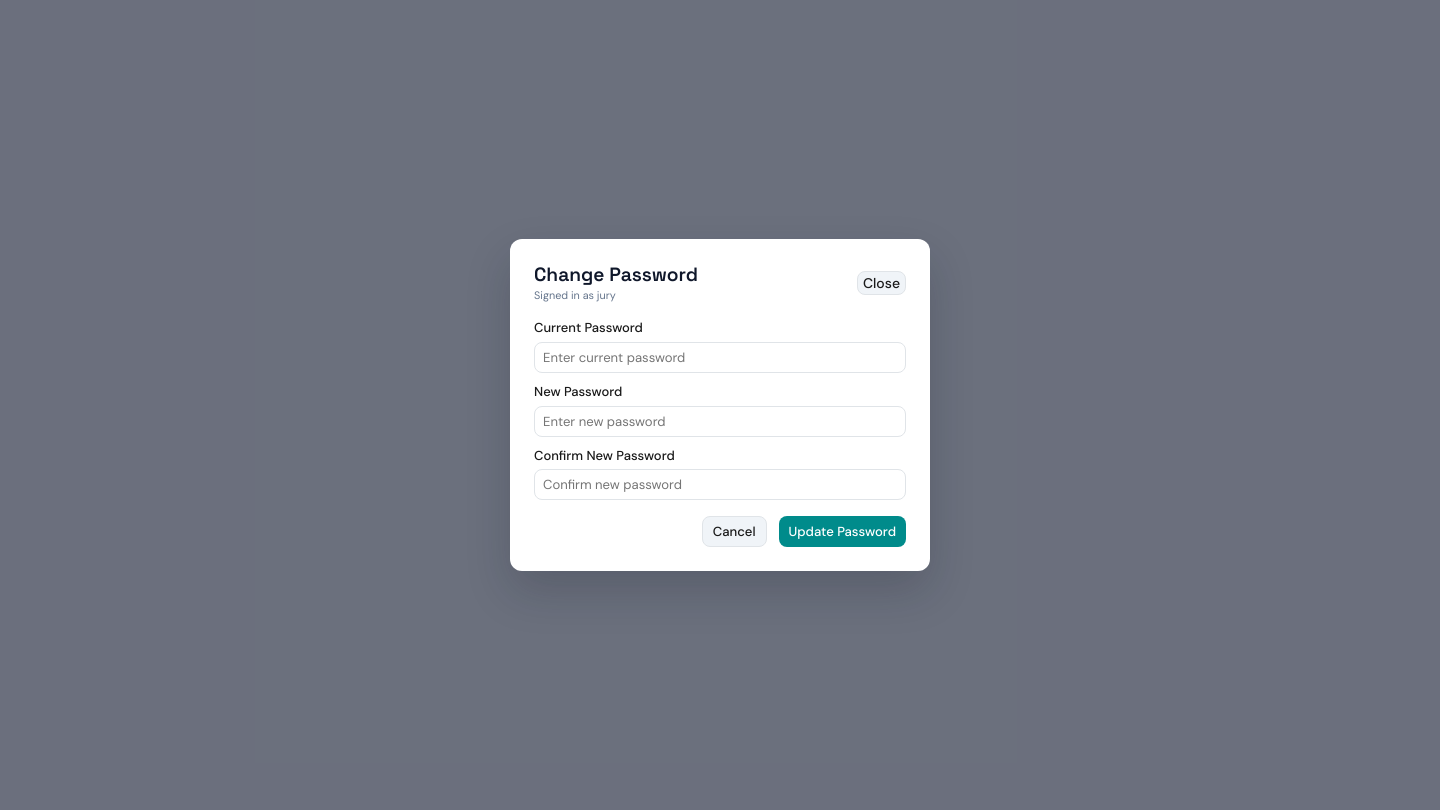
Test: PasswordChangeModal › validates password length and confirmation
This screenshot has width=1440, height=810.
In the password field with placeholder "Enter current password": [720, 358] box [534, 342, 906, 373], type "old"
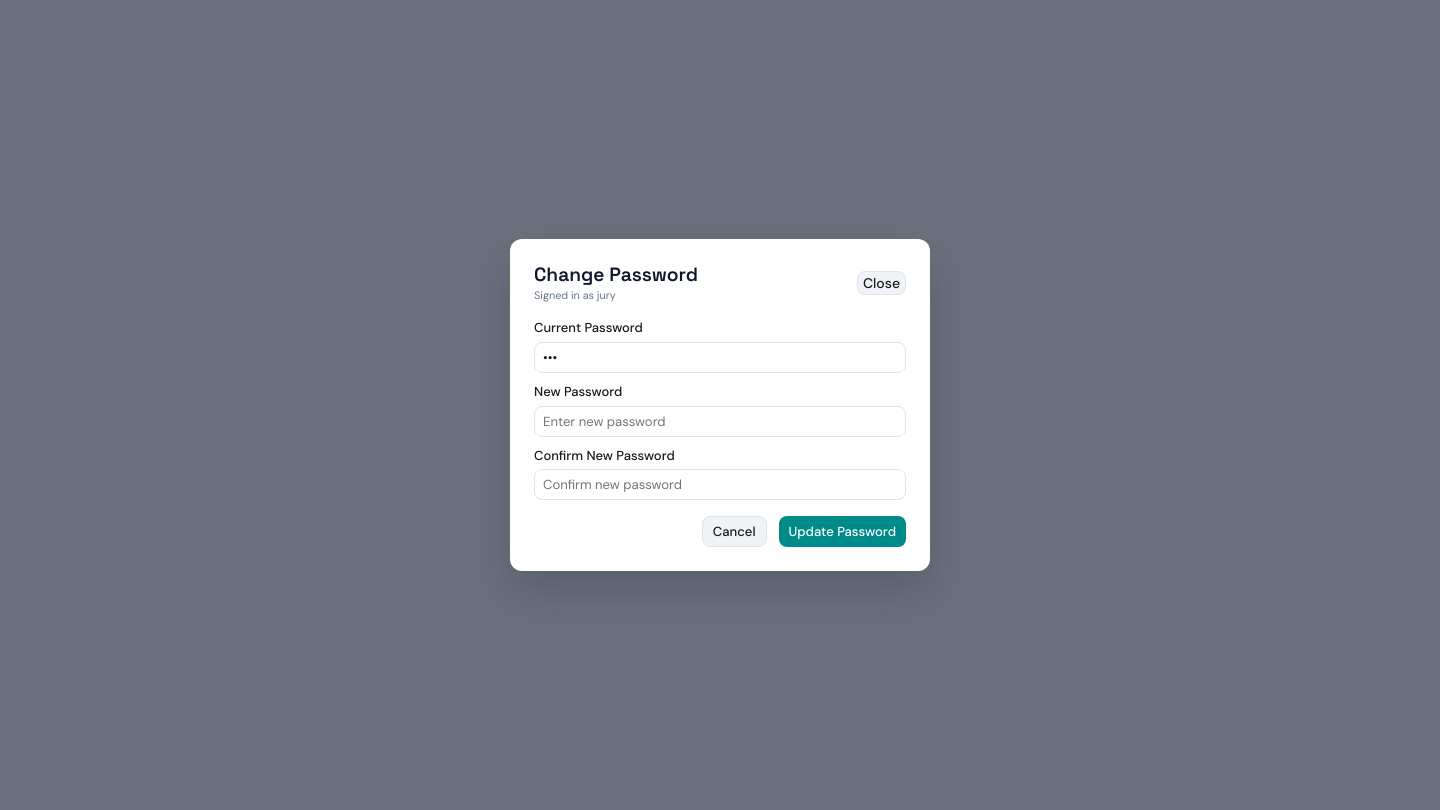
In the password field with placeholder "Enter new password": [720, 421] box [534, 406, 906, 437], type "short"
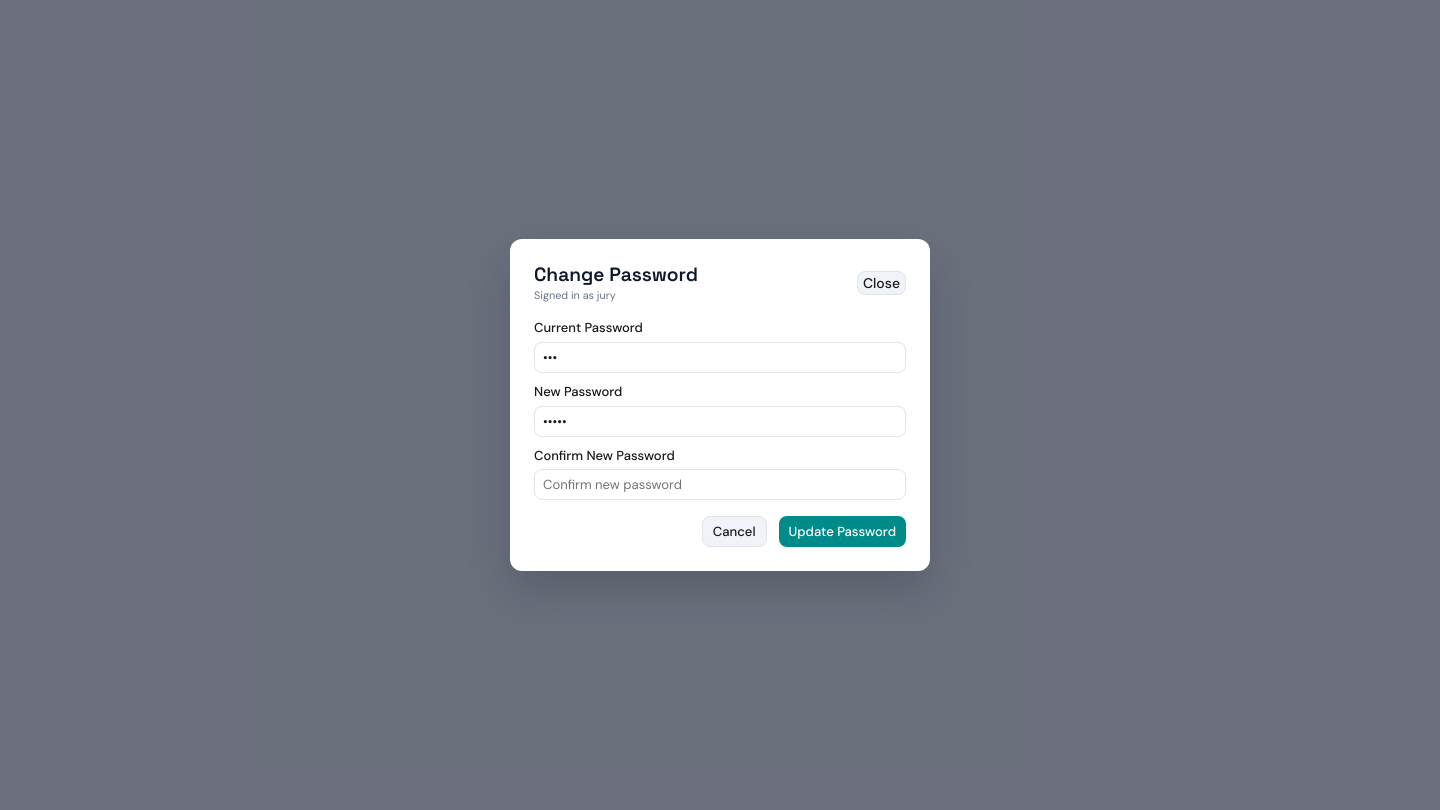
In the password field with placeholder "Confirm new password": [720, 485] box [534, 469, 906, 500], type "short"
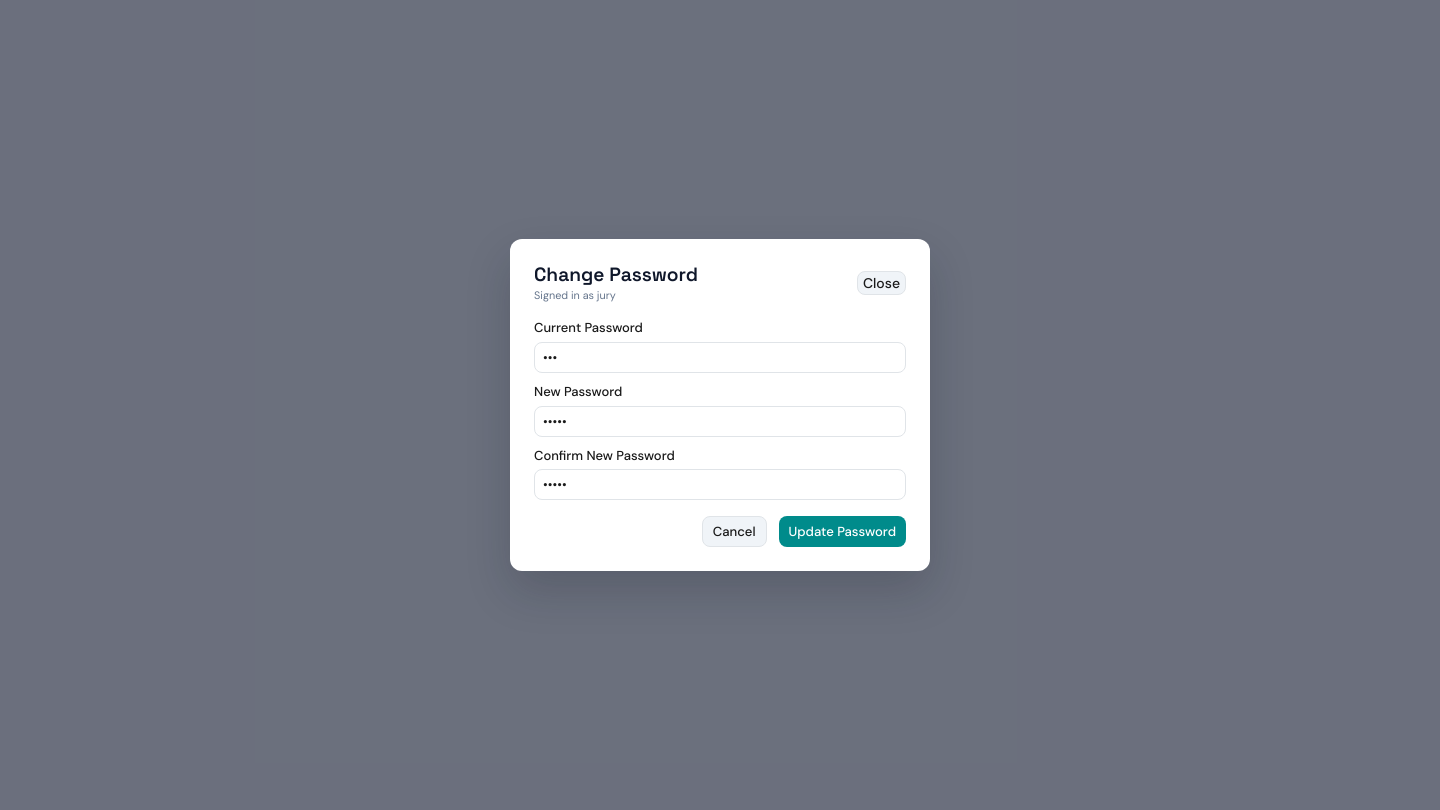
Click the button "Update Password": [842, 532] box [778, 516, 906, 547]
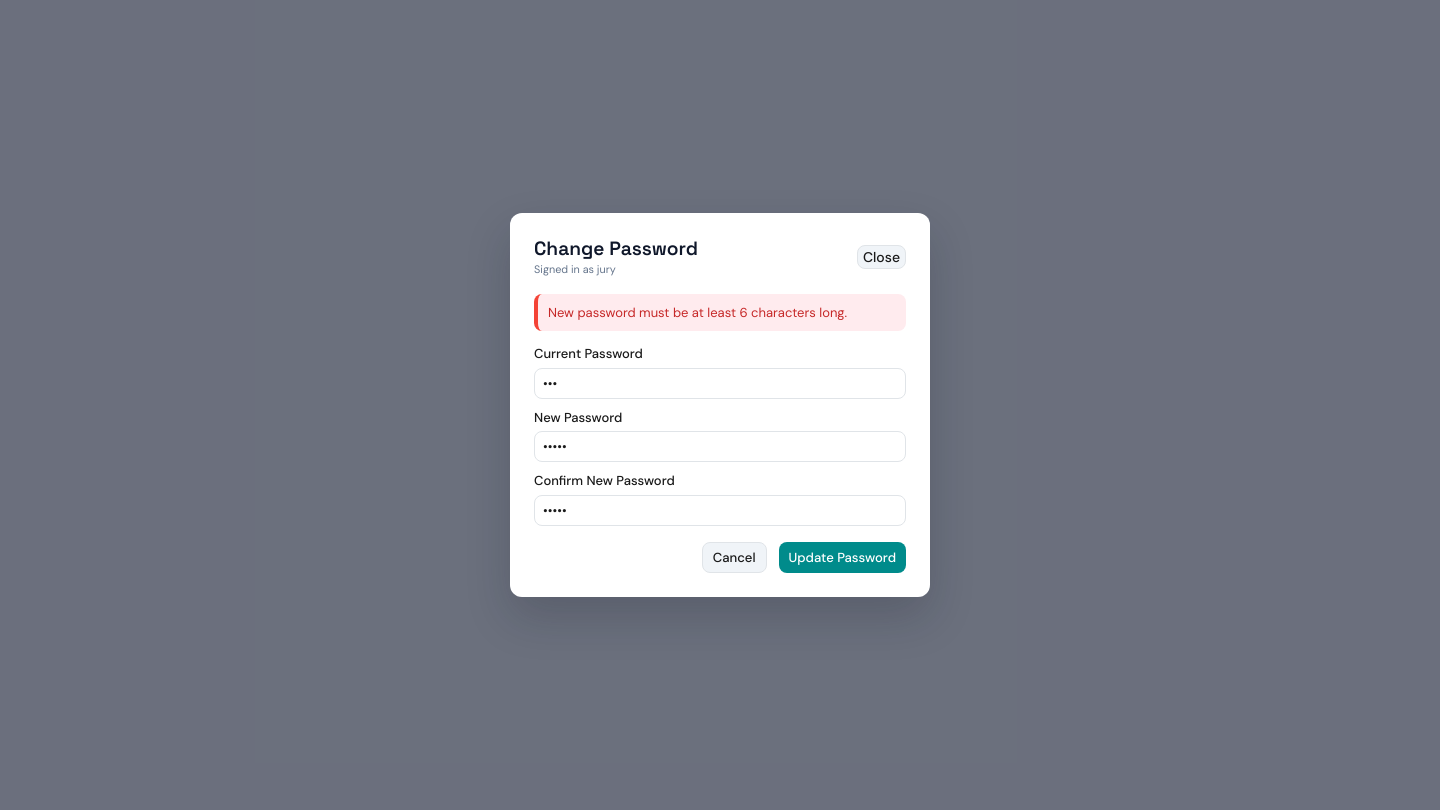
Result: the text "New password must be at least 6 characters long." is shown at [534, 294, 906, 331]
In the 2nd password field with placeholder "Enter new password": [720, 447] box [534, 431, 906, 462], type "long-enough"
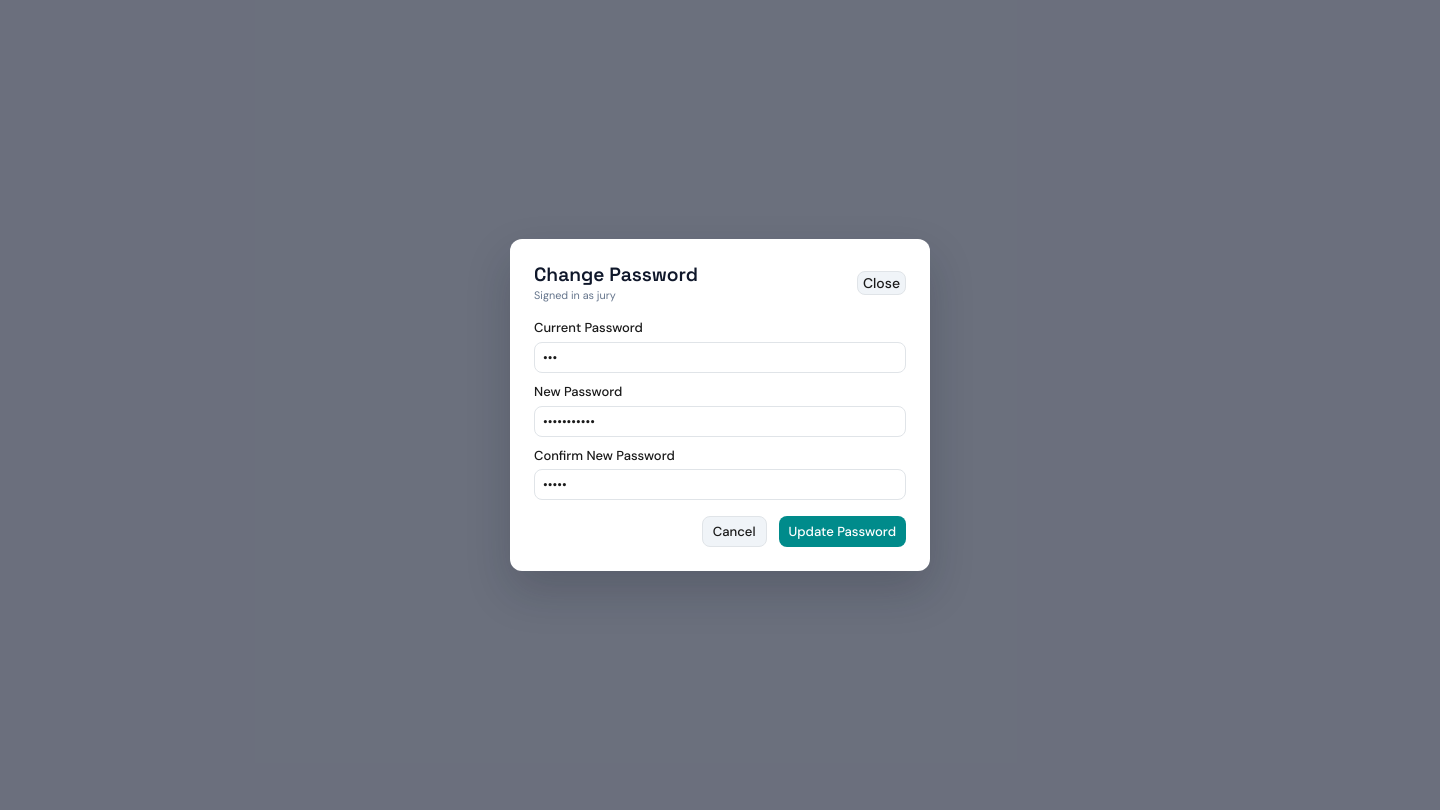
Click the button "Update Password": [842, 532] box [778, 516, 906, 547]
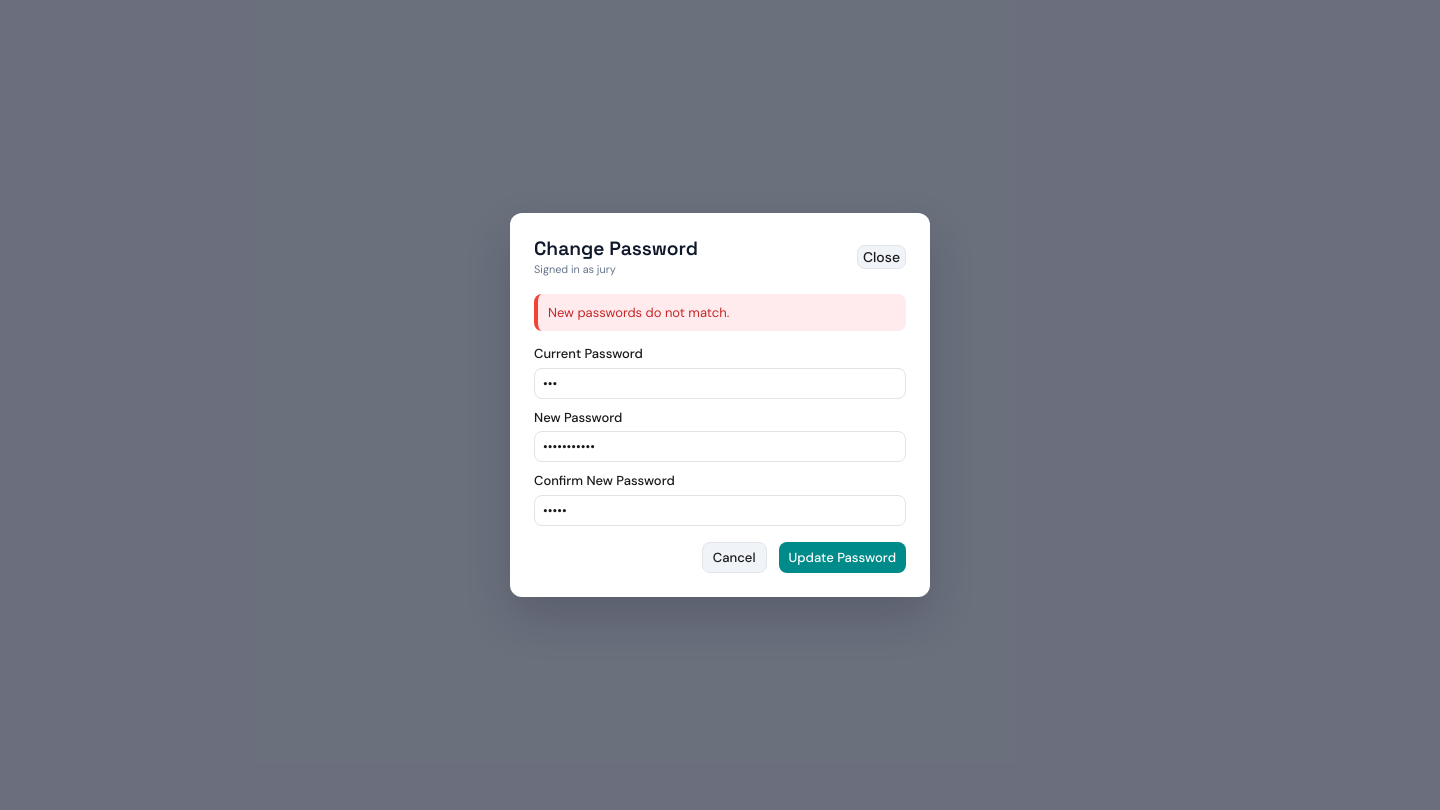
Result: the text "New passwords do not match." is shown at [534, 294, 906, 331]
